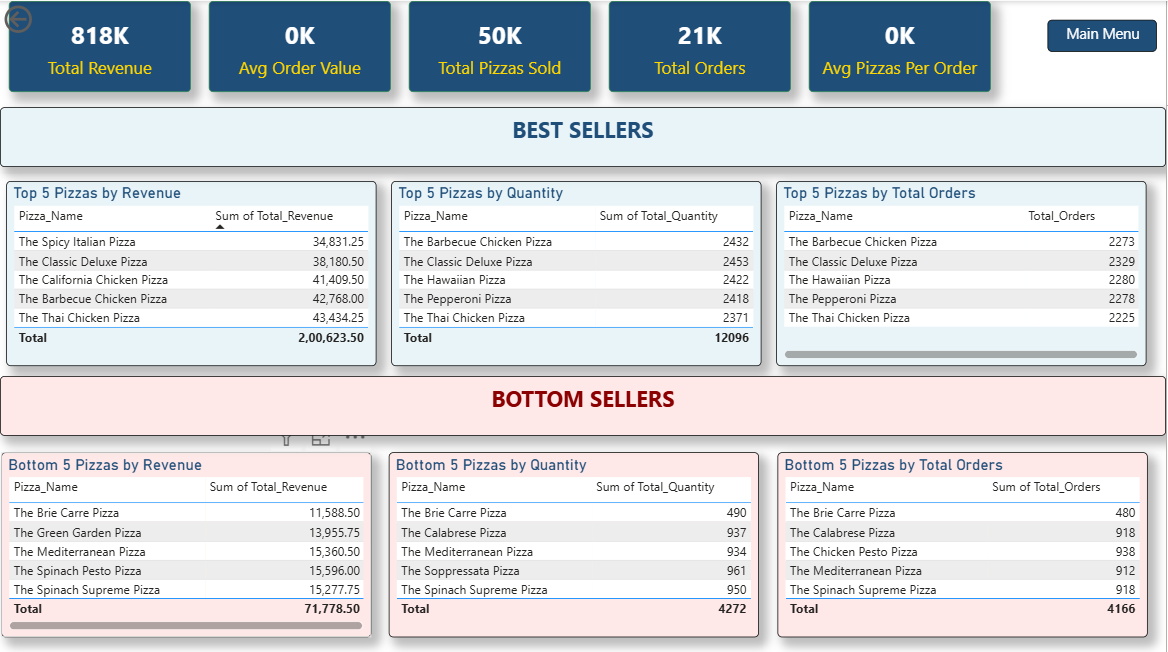

The dashboard page shown, as its layout file describes it:
{"tool":"powerbi","page":{"name":"Best/Worst Sellers","canvas":[1280,720],"ordinal":2},"visuals":[{"type":"card","fields":{"Values":["Sum(vw_BasicKPIs.Total_Revenue)"]},"box":[9.6,0,200,100],"z":0},{"type":"card","fields":{"Values":["Sum(vw_BasicKPIs.Avg_Order_Value)"]},"box":[229.3,0,200,100],"z":1000},{"type":"card","fields":{"Values":["Sum(vw_BasicKPIs.Total_Pizzas_Sold)"]},"box":[449,0,200,100],"z":2000},{"type":"card","fields":{"Values":["Sum(vw_BasicKPIs.Total_Orders)"]},"box":[668.7,0,200,100],"z":3000},{"type":"card","fields":{"Values":["Sum(vw_BasicKPIs.Avg_Pizzas_Per_Order)"]},"box":[888.4,0,200,100],"z":4000},{"type":"tableEx","title":"Top 5 Pizzas by Revenue","fields":{"Values":["vw_Top5Pizzas_Revenue.Pizza_Name","Sum(vw_Top5Pizzas_Revenue.Total_Revenue)"]},"box":[6.9,198.1,406.2,203.1],"z":5000},{"type":"tableEx","title":"Top 5 Pizzas by Quantity","fields":{"Values":["vw_Top5Pizzas_Quantity.Pizza_Name","Sum(vw_Top5Pizzas_Quantity.Total_Quantity)"]},"box":[429.5,198.1,406.2,203.1],"z":6000},{"type":"tableEx","title":"Top 5 Pizzas by Total Orders","fields":{"Values":["vw_Top5Pizzas.Pizza_Name","vw_Top5Pizzas.Total_Orders"]},"box":[852.1,198.1,406.2,203.1],"z":7000},{"type":"tableEx","title":"Bottom 5 Pizzas by Revenue","fields":{"Values":["vw_Bottom5Pizzas_Revenue.Pizza_Name","Sum(vw_Bottom5Pizzas_Revenue.Total_Revenue)"]},"box":[1.1,495.1,406.2,203.1],"z":8000},{"type":"tableEx","title":"Bottom 5 Pizzas by Quantity","fields":{"Values":["vw_Bottom5Pizzas_Quantity.Pizza_Name","Sum(vw_Bottom5Pizzas_Quantity.Total_Quantity)"]},"box":[427.2,495.1,406.2,203.1],"z":9000},{"type":"actionButton","box":[0,0,100,40],"z":10000},{"type":"tableEx","title":"Bottom 5 Pizzas by Total Orders","fields":{"Values":["vw_Bottom5Pizzas.Pizza_Name","Sum(vw_Bottom5Pizzas.Total_Orders)"]},"box":[853.2,495.1,406.2,203.1],"z":11000},{"type":"textbox","box":[0,116.4,1280.3,65.9],"z":12000},{"type":"textbox","box":[0,411.7,1280.3,65.9],"z":13000},{"type":"actionButton","title":"Main Menu","box":[1150,20,120,35],"z":14000}]}

Visuals, with their boxes in screenshot pixels (x1, y1, x2, y2), scaled from the page's 1280x720 canvas onto the 1168x652 screenshot:
card - Sum(vw_BasicKPIs.Total_Revenue): l=9, t=0, r=191, b=91
card - Sum(vw_BasicKPIs.Avg_Order_Value): l=209, t=0, r=392, b=91
card - Sum(vw_BasicKPIs.Total_Pizzas_Sold): l=410, t=0, r=592, b=91
card - Sum(vw_BasicKPIs.Total_Orders): l=610, t=0, r=793, b=91
card - Sum(vw_BasicKPIs.Avg_Pizzas_Per_Order): l=811, t=0, r=993, b=91
"Top 5 Pizzas by Revenue" tableEx: l=6, t=179, r=377, b=363
"Top 5 Pizzas by Quantity" tableEx: l=392, t=179, r=763, b=363
"Top 5 Pizzas by Total Orders" tableEx: l=778, t=179, r=1148, b=363
"Bottom 5 Pizzas by Revenue" tableEx: l=1, t=448, r=372, b=632
"Bottom 5 Pizzas by Quantity" tableEx: l=390, t=448, r=760, b=632
actionButton: l=0, t=0, r=91, b=36
"Bottom 5 Pizzas by Total Orders" tableEx: l=779, t=448, r=1149, b=632
textbox: l=0, t=105, r=1167, b=165
textbox: l=0, t=373, r=1167, b=432
"Main Menu" actionButton: l=1049, t=18, r=1159, b=50
